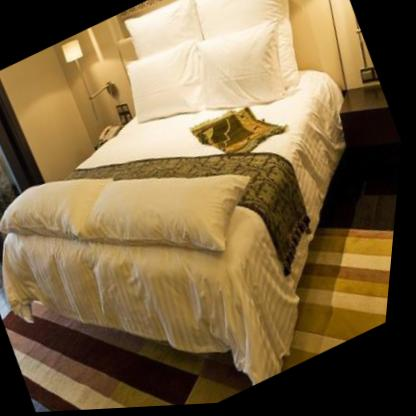Bed: (2, 0, 349, 387)
Carpet: (8, 314, 259, 413)
